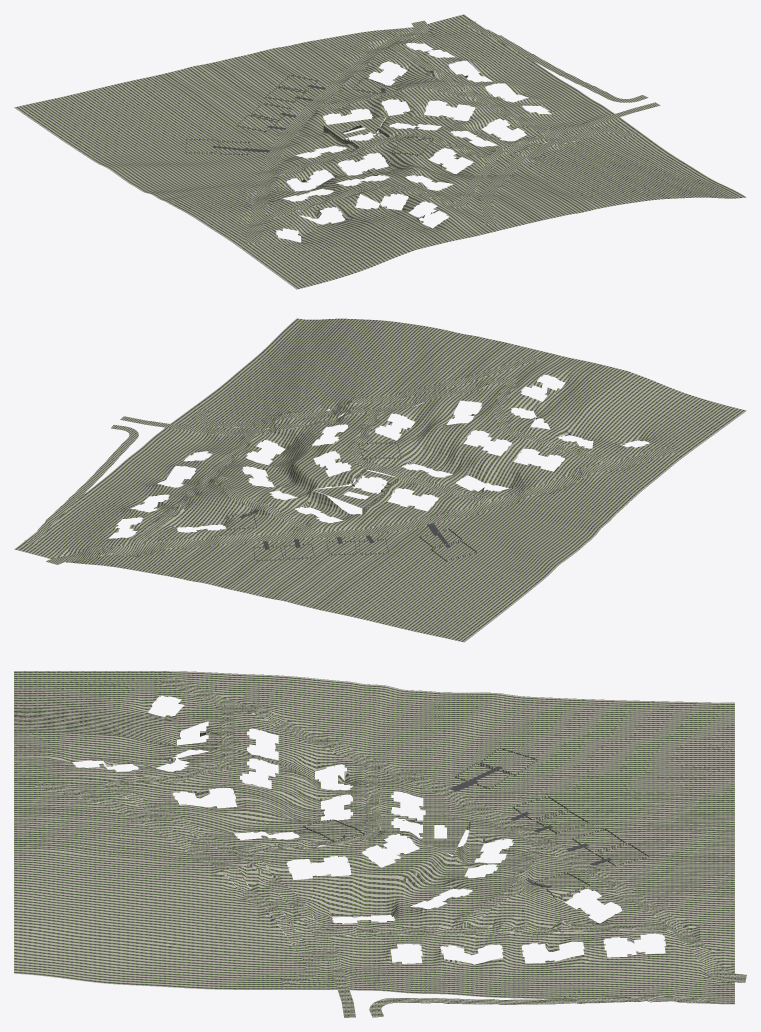
The model's file is context-ground.glb.
3 views of the same model, one above another, from view 1: azimuth 30°, elevation 25°; view 2: azimuth 150°, elevation 25°; view 3: azimuth 270°, elevation 25° (orthographic). The views are drawn at different scales.
Size of the model in its own units: 312 by 32.82 by 315.
1 material, 1 textured.
